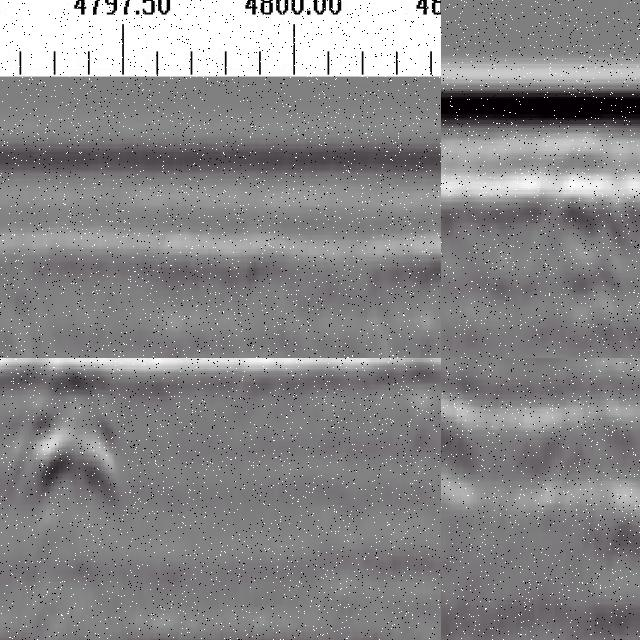loose: (1, 359, 125, 507)
